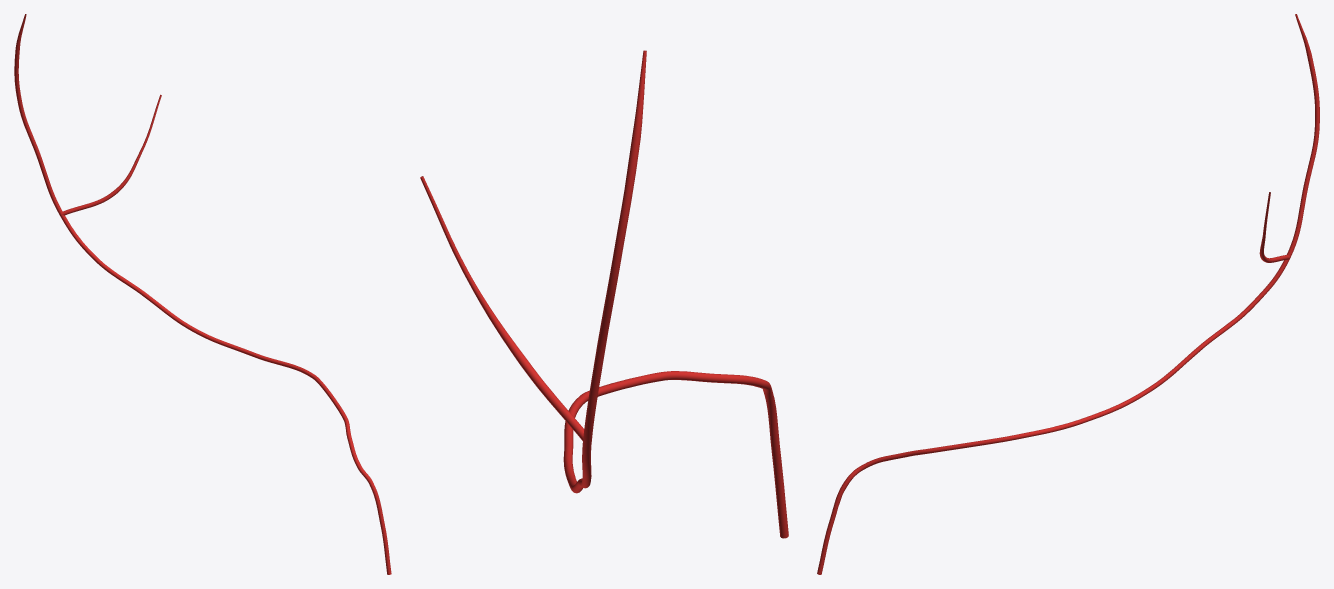
File: circulatorio-occipital-vein-l.glb
The picture shows the model from 3 angles, left to right: view 1: azimuth 30°, elevation 25°; view 2: azimuth 150°, elevation 25°; view 3: azimuth 270°, elevation 25°; orthographic projection. The views are drawn at different scales.
Visible parts, largest first — view 1: Occipital vein.l; view 2: Occipital vein.l; view 3: Occipital vein.l.
Boxes of the visible parts, bbox=[...] form: Occipital vein.l: bbox=[14, 14, 391, 574]; Occipital vein.l: bbox=[420, 50, 788, 538]; Occipital vein.l: bbox=[817, 14, 1319, 574].
Bounding box in the file's own units: 0.043 × 0.1085 × 0.1027.
